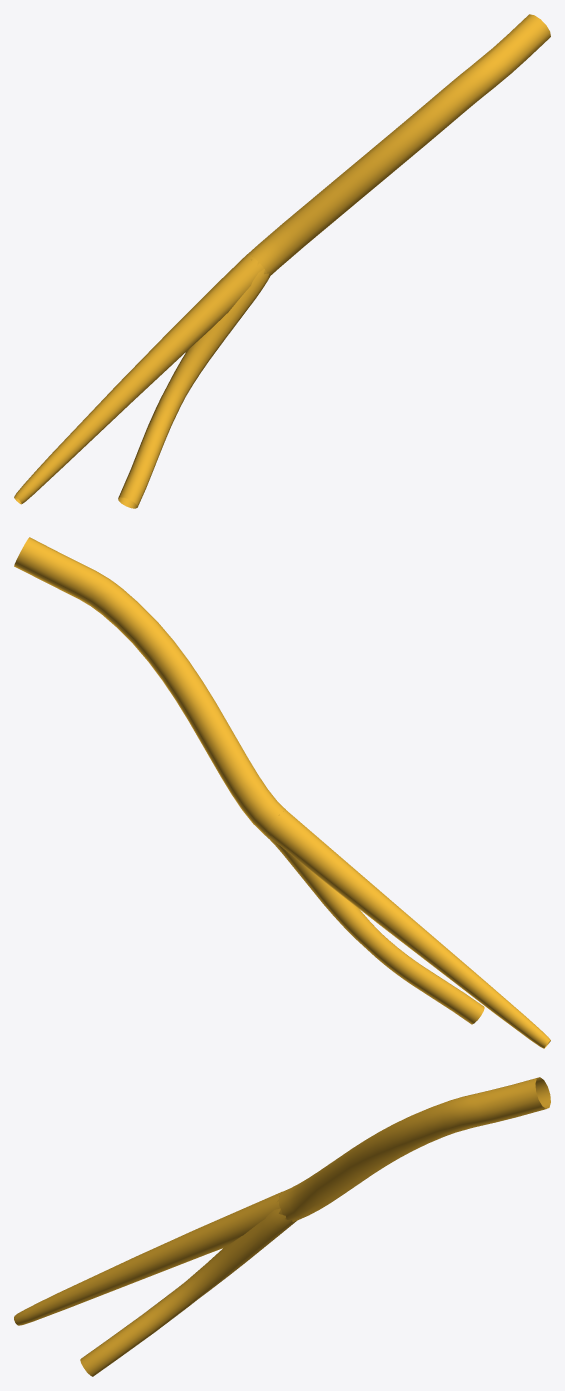
File: nervoso-inferior-trunk-of-brachial-plexus-r.glb
The picture shows the model from 3 angles, top to bottom: view 1: azimuth 30°, elevation 25°; view 2: azimuth 150°, elevation 25°; view 3: azimuth 330°, elevation 25°; orthographic projection. The views are drawn at different scales.
Parts seen in each view (by area): view 1: Inferior trunk of brachial plexus.r, Posterior division of inferior trunk of brachial plexus.r, Anterior division of inferior trunk of brachial plexus.r; view 2: Inferior trunk of brachial plexus.r, Posterior division of inferior trunk of brachial plexus.r, Anterior division of inferior trunk of brachial plexus.r; view 3: Inferior trunk of brachial plexus.r, Posterior division of inferior trunk of brachial plexus.r, Anterior division of inferior trunk of brachial plexus.r.
Boxes of the visible parts, x1,y1,x2,y2 form: Inferior trunk of brachial plexus.r: (248,14,550,276); Posterior division of inferior trunk of brachial plexus.r: (14,254,268,504); Anterior division of inferior trunk of brachial plexus.r: (118,259,270,508); Inferior trunk of brachial plexus.r: (14,537,285,834); Posterior division of inferior trunk of brachial plexus.r: (265,810,550,1048); Anterior division of inferior trunk of brachial plexus.r: (264,812,484,1024); Inferior trunk of brachial plexus.r: (279,1077,550,1221); Posterior division of inferior trunk of brachial plexus.r: (14,1192,286,1325); Anterior division of inferior trunk of brachial plexus.r: (80,1195,297,1376).
Size of the model in its own units: 0.0562 by 0.0389 by 0.00861.
